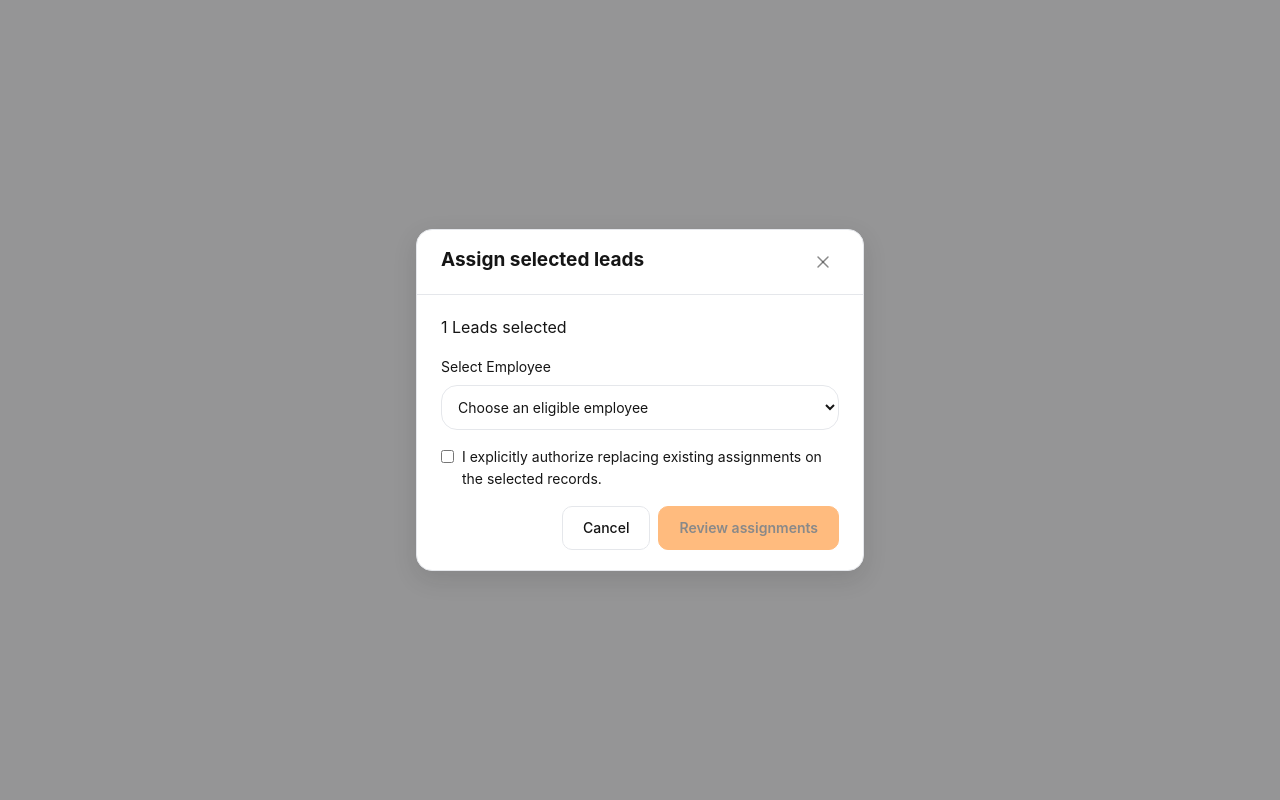
Scenario: requires a fresh preview after changing explicit reassignment consent
Select "Pavan" in the dropdown labelled "Select Employee". click: coordinates (640, 408)
box: top-left (441, 386), bottom-right (839, 431)
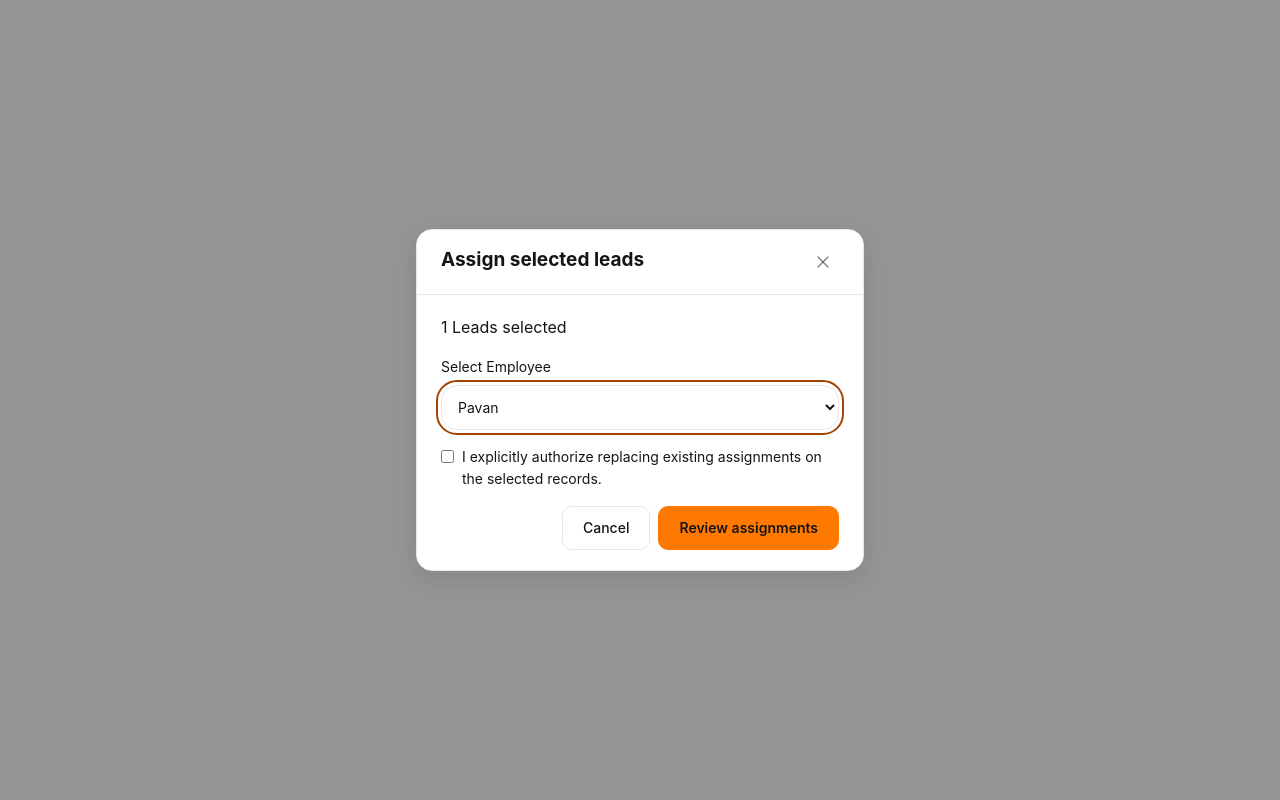
Click the button "Review assignments". click: coordinates (749, 528)
box: top-left (658, 506), bottom-right (839, 550)
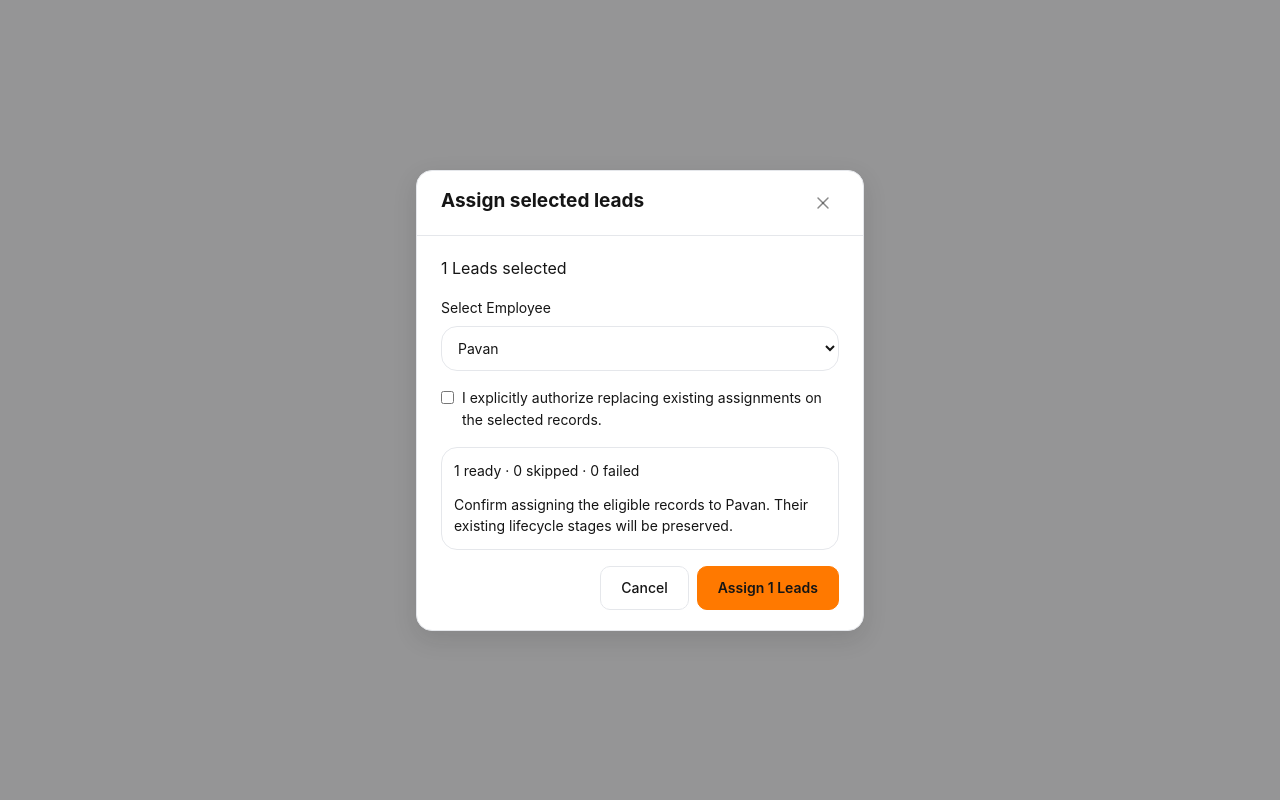
expect the button "Assign 1 Leads" is shown: met, box top-left (697, 566), bottom-right (839, 609)
Click the checkbox. click: coordinates (448, 398)
box: top-left (441, 391), bottom-right (454, 404)
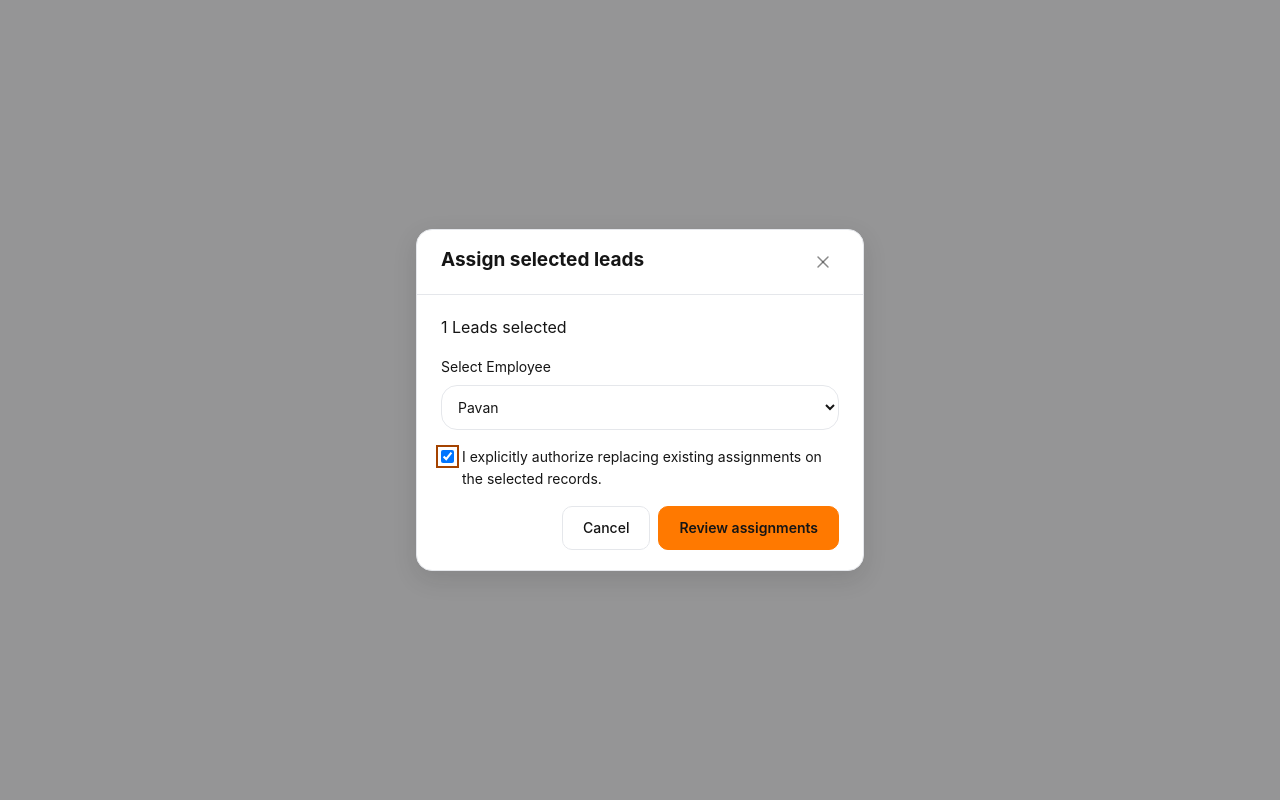
expect the button "Review assignments" is shown: met, box top-left (658, 506), bottom-right (839, 550)
